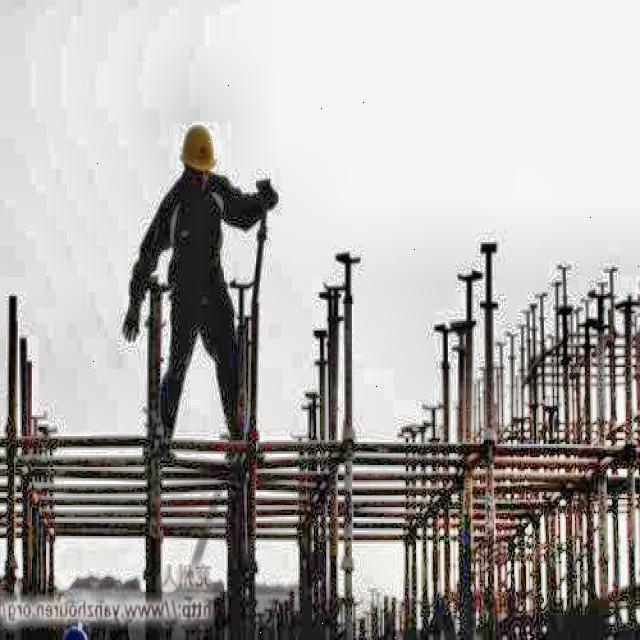helmet: (177, 116, 220, 184)
